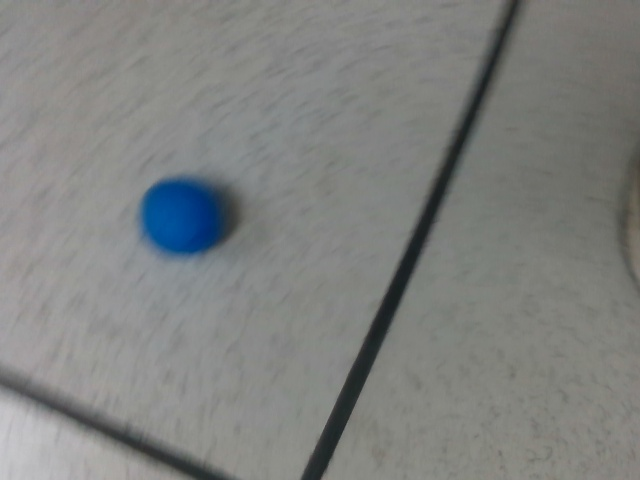blueball: (131, 170, 226, 255)
